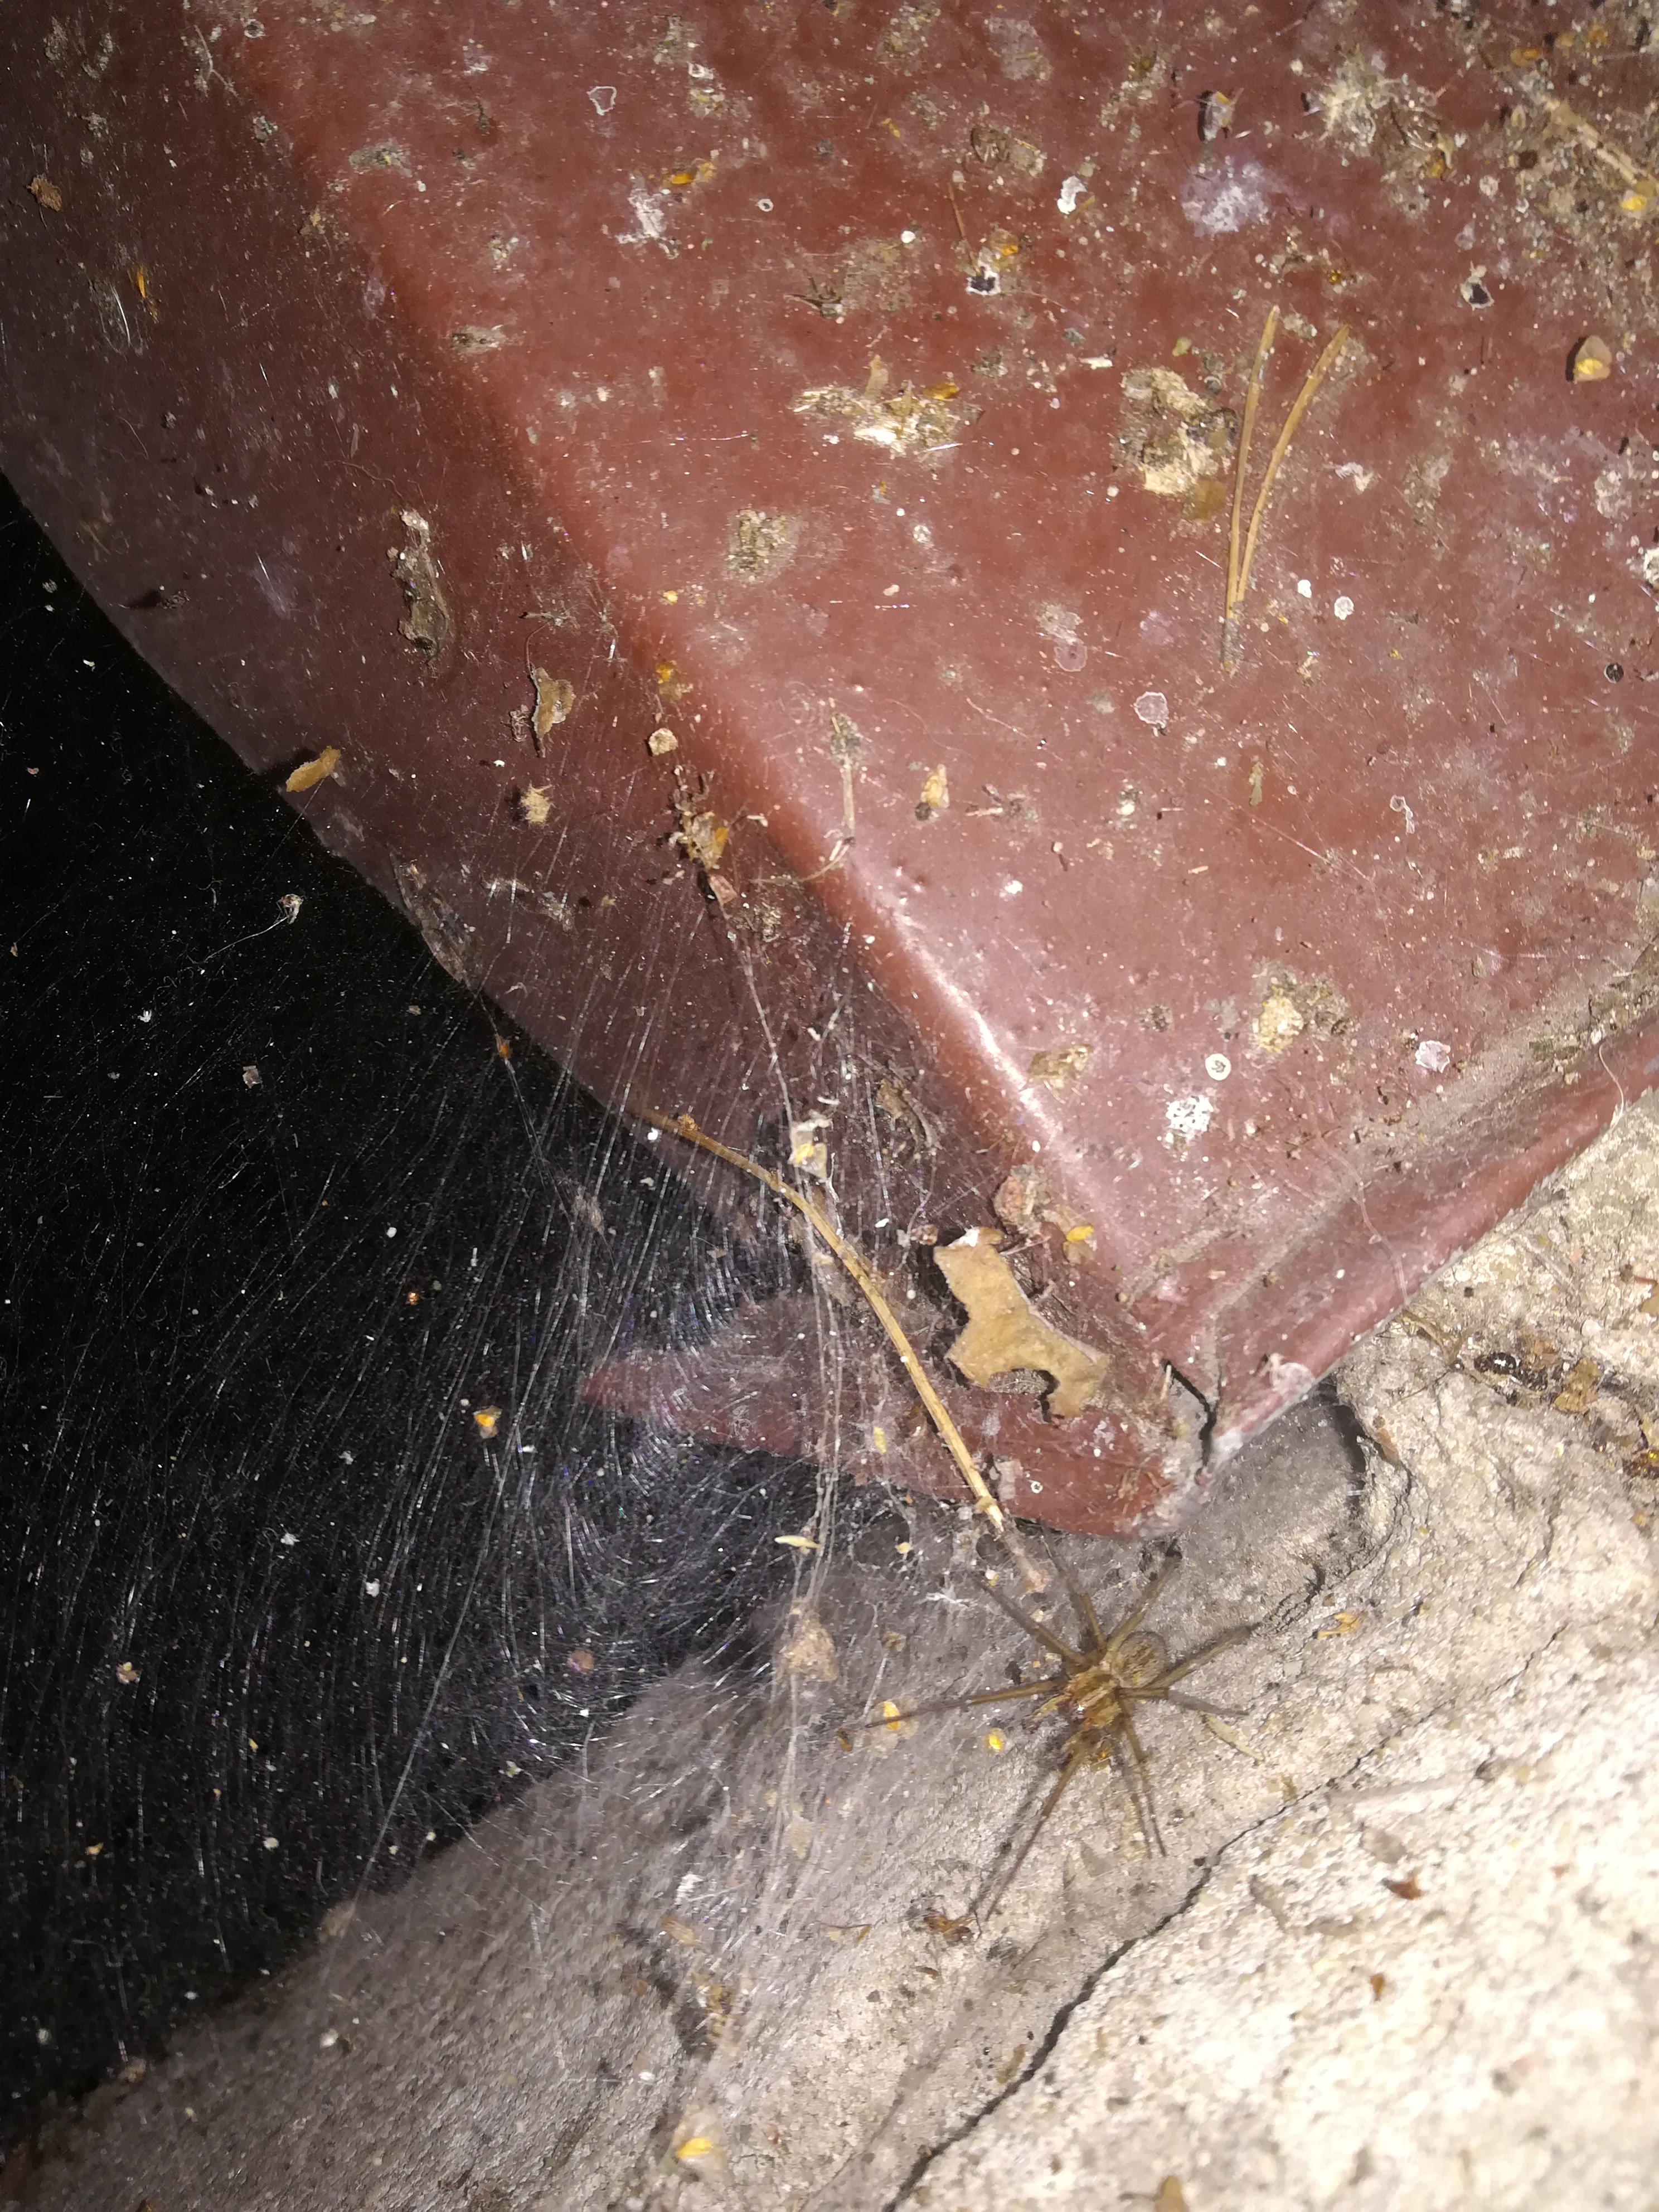spider: (791, 1493, 1297, 1979)
